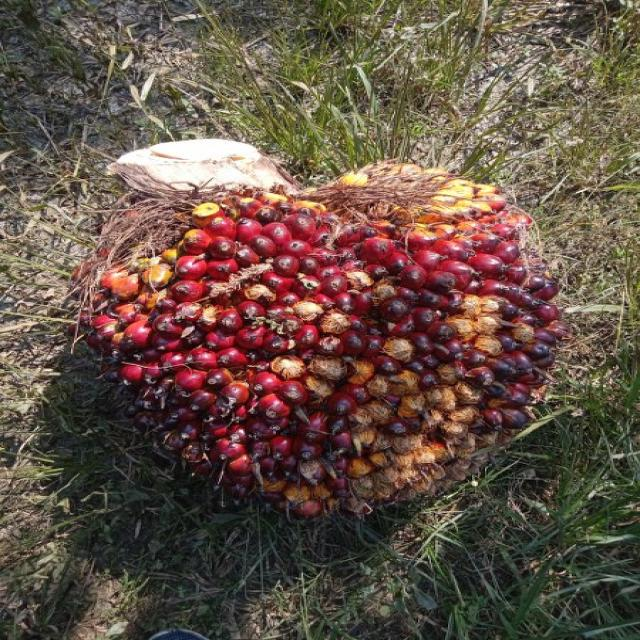fraksi 1: (36, 94, 607, 583)
